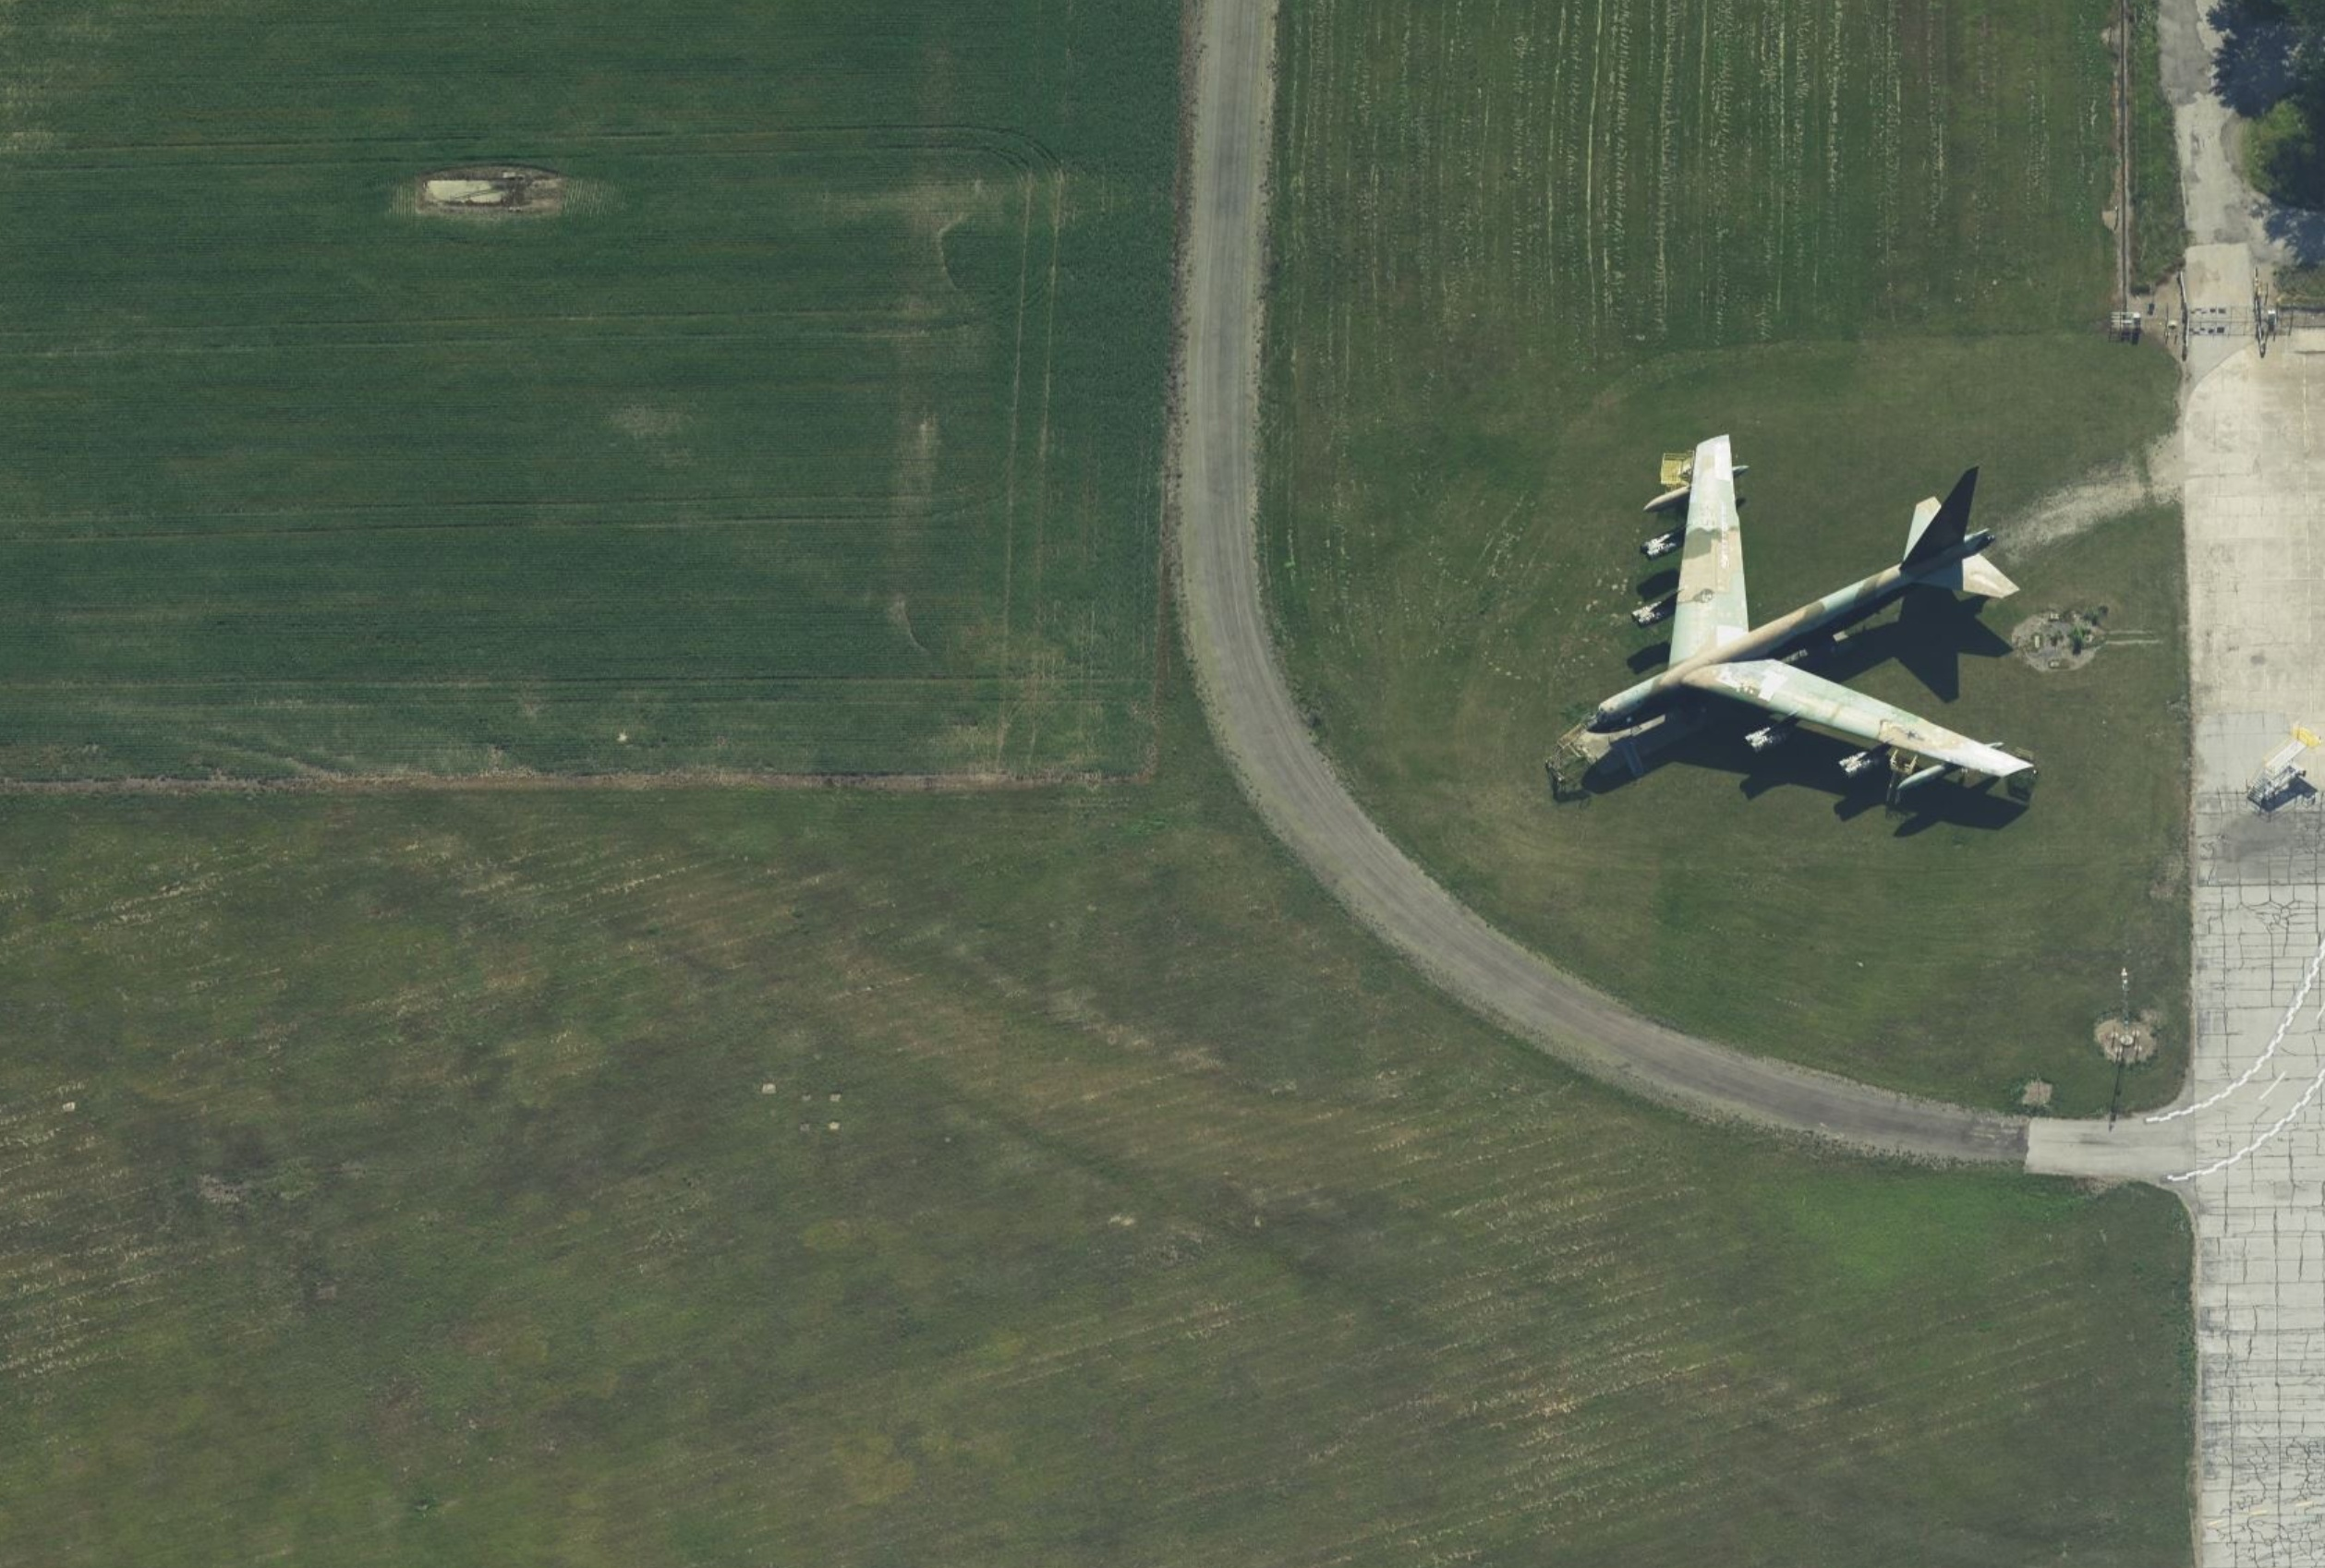B52: (1584, 434, 2034, 793)
